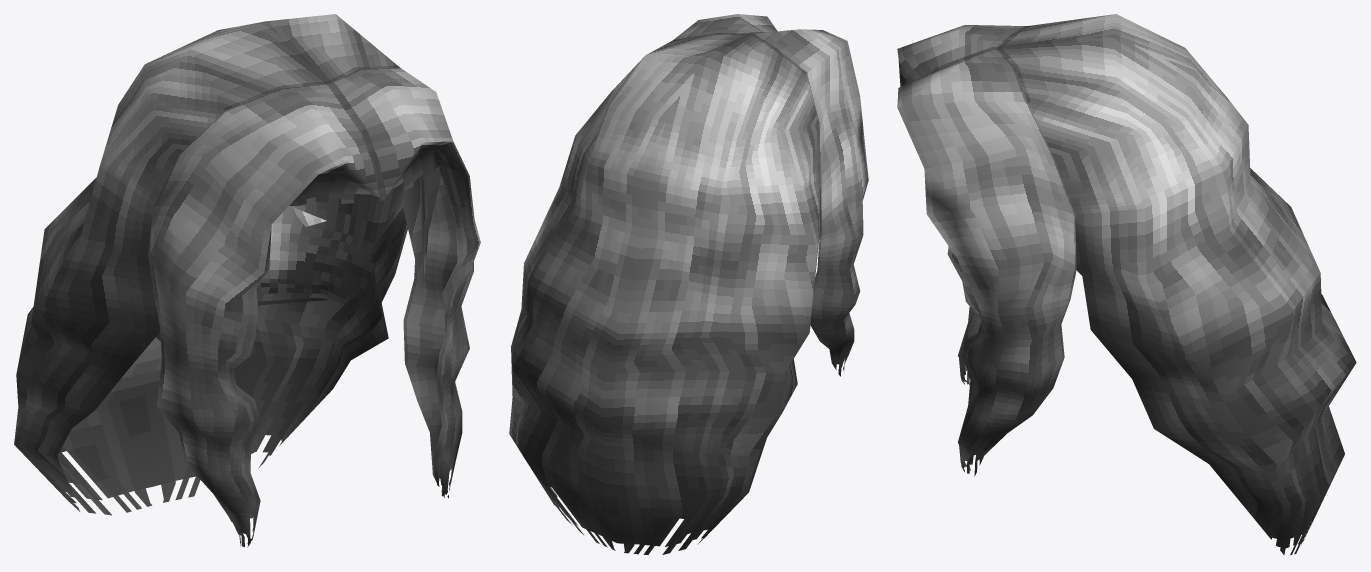
The model's file is m_hair012.obj.
3 views of the same model, side by side, from view 1: azimuth 30°, elevation 25°; view 2: azimuth 150°, elevation 25°; view 3: azimuth 270°, elevation 25° (orthographic). The views are drawn at different scales.
Visible parts, largest first — view 1: editpl_m-0000-1834; view 2: editpl_m-0000-1834; view 3: editpl_m-0000-1834.
Boxes of the visible parts, left/top/right/bottom form: editpl_m-0000-1834: left=14, top=14, right=480, bottom=547; editpl_m-0000-1834: left=509, top=14, right=868, bottom=554; editpl_m-0000-1834: left=897, top=14, right=1356, bottom=555.
Size of the model in its own units: 23.86 by 34.72 by 28.66.
1 material, 1 textured.
